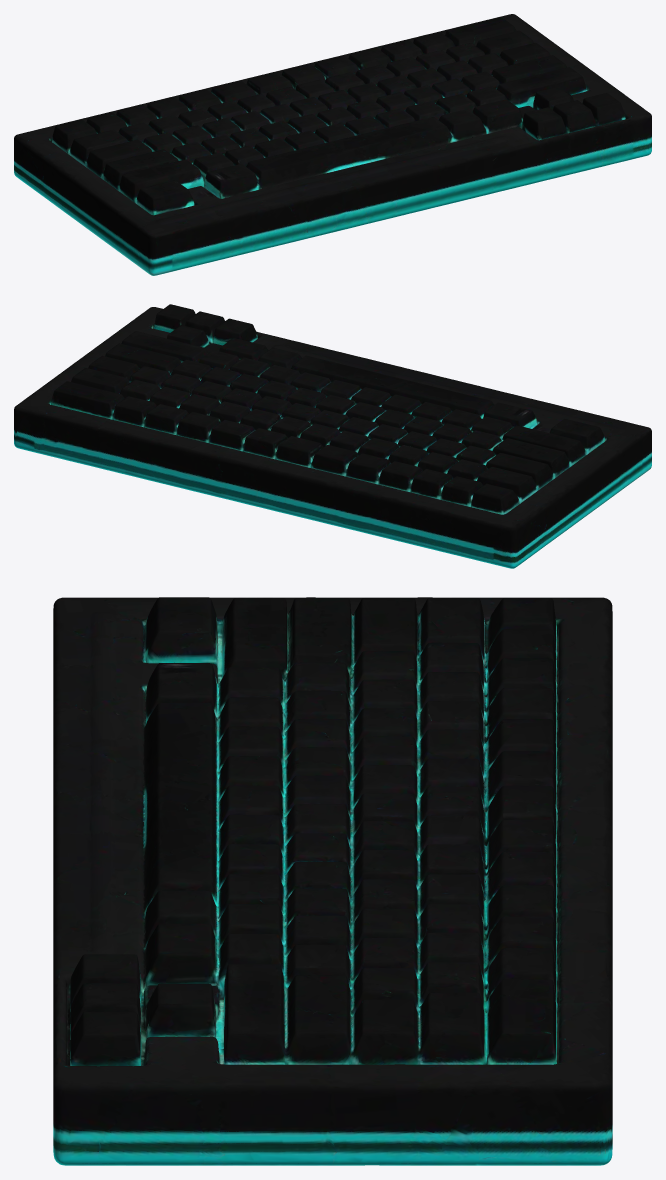
Rendered from keyboard.glb.
3 views of the same model, one above another, from view 1: azimuth 30°, elevation 25°; view 2: azimuth 150°, elevation 25°; view 3: azimuth 270°, elevation 25° (orthographic). The views are drawn at different scales.
Bounding box in the file's own units: 1.9 × 0.1985 × 0.9151.
1 material, 1 textured.
